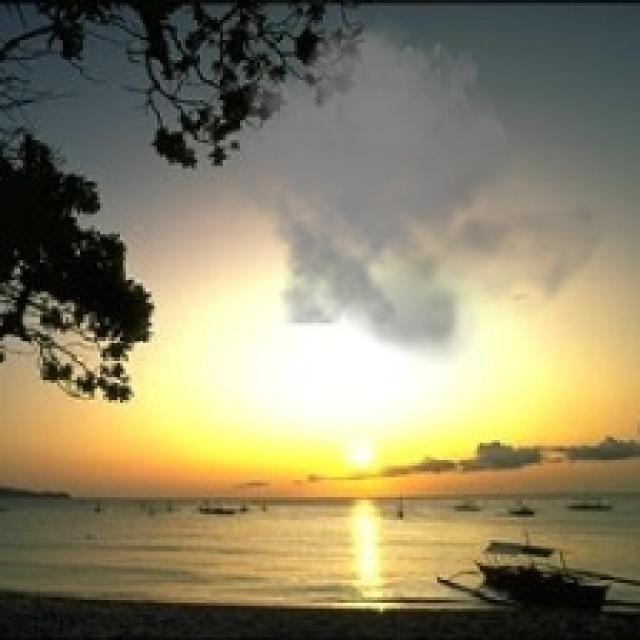Smoke: (226, 2, 612, 368)
